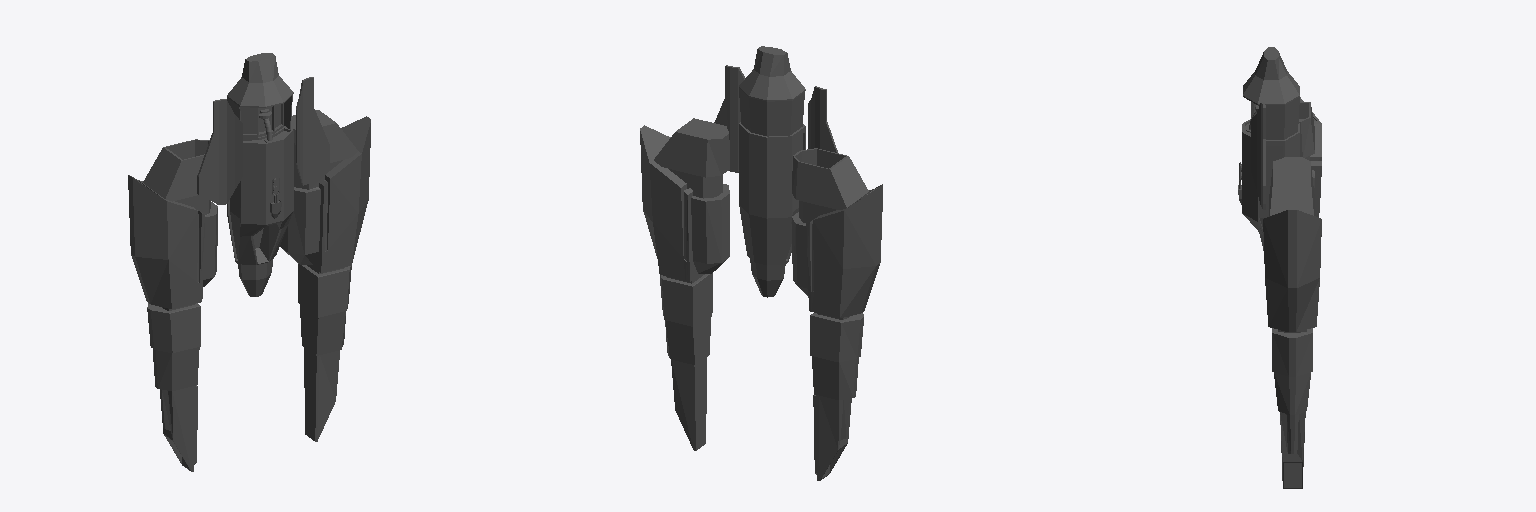
File: spaceship2.obj
The picture shows the model from 3 angles: view 1: azimuth 30°, elevation 25°; view 2: azimuth 150°, elevation 25°; view 3: azimuth 270°, elevation 25°; orthographic projection.
Parts seen in each view (by area): view 1: polySurface1_Untitled; view 2: polySurface1_Untitled; view 3: polySurface1_Untitled.
Part boxes in pixels (x1,y1,x2,y2): polySurface1_Untitled: (128, 53, 370, 471); polySurface1_Untitled: (640, 46, 882, 480); polySurface1_Untitled: (1238, 47, 1321, 488).
Bounding box in the file's own units: 0.2555 × 0.413 × 0.0778.